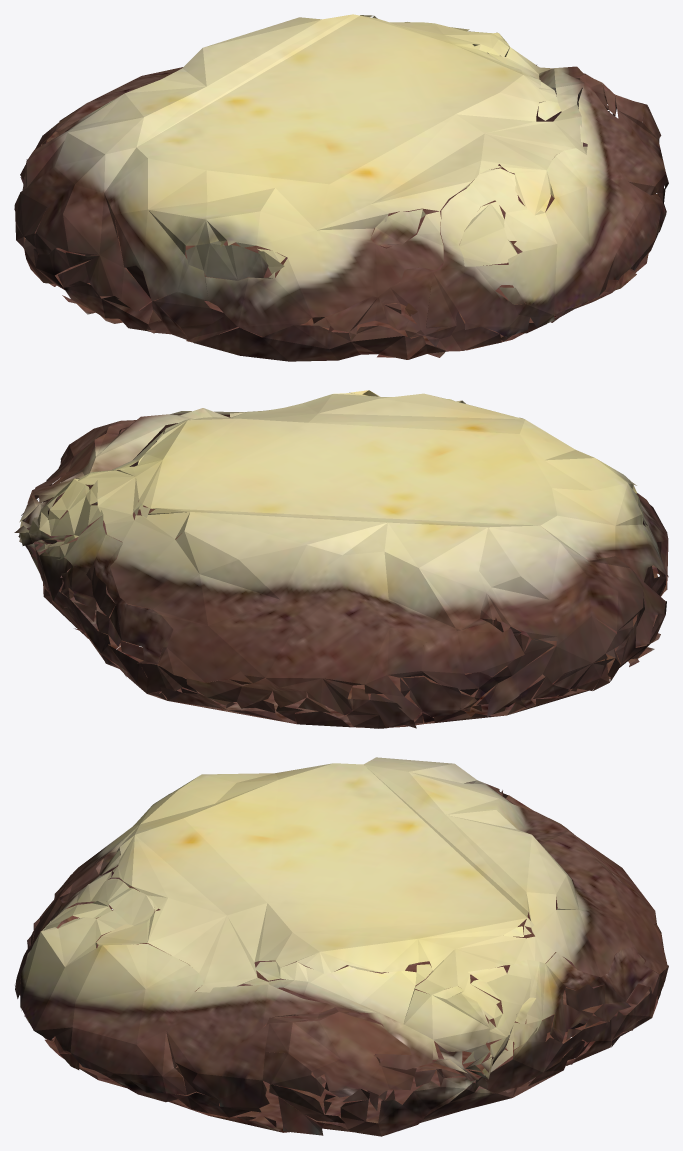
Rendered from italian-chocolate-orange-cookie.gltf.
3 views of the same model, one above another, from view 1: azimuth 30°, elevation 25°; view 2: azimuth 150°, elevation 25°; view 3: azimuth 270°, elevation 25° (orthographic). The views are drawn at different scales.
Parts seen in each view (by area): view 1: model_New Qlone_20221216_192733917; view 2: model_New Qlone_20221216_192733917; view 3: model_New Qlone_20221216_192733917.
Boxes of the visible parts, x1=… form: model_New Qlone_20221216_192733917: x1=14, y1=14, x2=668, y2=361; model_New Qlone_20221216_192733917: x1=14, y1=390, x2=668, y2=728; model_New Qlone_20221216_192733917: x1=15, y1=757, x2=668, y2=1136.
Size of the model in its own units: 5.95 by 1.31 by 5.56.
Materials: 1 (1 with a texture image).
